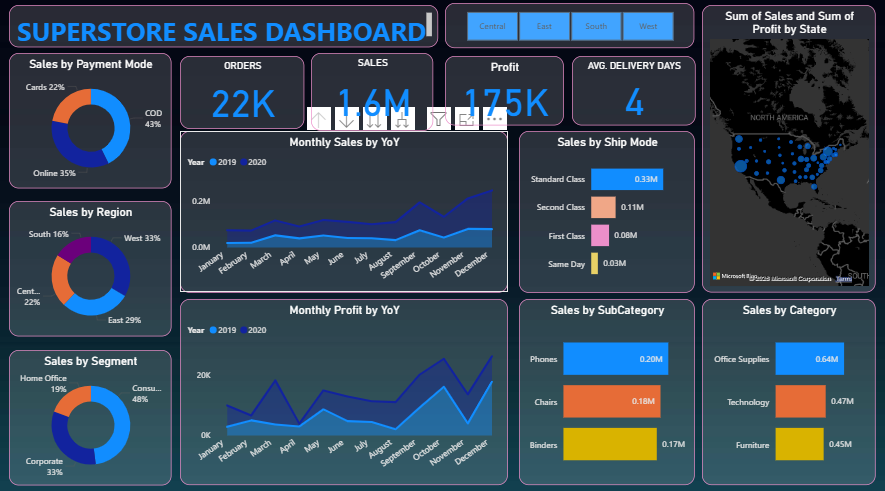

This screenshot's page, from the dashboard's own definition file:
{"tool":"powerbi","page":{"name":"Page 1","canvas":[1280,720],"ordinal":0},"visuals":[{"type":"clusteredBarChart","title":" Sales by Category","fields":{"Y":["Sum(SuperStore_Sales_Dataset.Sales)"],"Category":["SuperStore_Sales_Dataset.Category"]},"box":[1010.2,434.9,250.5,268.4],"z":0},{"type":"clusteredBarChart","title":" Sales by SubCategory","fields":{"Y":["Sum(SuperStore_Sales_Dataset.Sales)"],"Category":["SuperStore_Sales_Dataset.Sub-Category"]},"box":[747.4,434.9,253.2,268.4],"z":1000},{"type":"clusteredBarChart","title":" Sales by Ship Mode","fields":{"Y":["Sum(SuperStore_Sales_Dataset.Sales)"],"Category":["SuperStore_Sales_Dataset.Ship Mode"]},"box":[747.4,192.7,253.2,232.6],"z":2000},{"type":"stackedAreaChart","title":"Monthly Sales by YoY","fields":{"Y":["Sum(SuperStore_Sales_Dataset.Sales)"],"Category":["SuperStore_Sales_Dataset.Order Date.Variation.Date Hierarchy.Month","SuperStore_Sales_Dataset.Order Date.Variation.Date Hierarchy.Day"],"Series":["SuperStore_Sales_Dataset.Order Date.Variation.Date Hierarchy.Year"]},"box":[258.8,192.7,472.1,232.6],"z":3000},{"type":"stackedAreaChart","title":"Monthly Profit by YoY","fields":{"Category":["SuperStore_Sales_Dataset.Order Date.Variation.Date Hierarchy.Month","SuperStore_Sales_Dataset.Order Date.Variation.Date Hierarchy.Day"],"Series":["SuperStore_Sales_Dataset.Order Date.Variation.Date Hierarchy.Year"],"Y":["Sum(SuperStore_Sales_Dataset.Profit)"]},"box":[258.8,434.9,472.1,268.4],"z":4000},{"type":"map","fields":{"Category":["SuperStore_Sales_Dataset.State"],"Size":["Sum(SuperStore_Sales_Dataset.Sales)"]},"box":[1010.2,11,250.5,414.3],"z":5000},{"type":"donutChart","title":" Sales by Payment Mode","fields":{"Y":["Sum(SuperStore_Sales_Dataset.Sales)"],"Category":["SuperStore_Sales_Dataset.Payment Mode"]},"box":[12.4,81.2,234,195.4],"z":6000},{"type":"donutChart","title":" Sales by Region","fields":{"Y":["Sum(SuperStore_Sales_Dataset.Sales)"],"Category":["SuperStore_Sales_Dataset.Region"]},"box":[12.4,293.2,234,195.4],"z":7000},{"type":"donutChart","title":" Sales by Segment","fields":{"Y":["Sum(SuperStore_Sales_Dataset.Sales)"],"Category":["SuperStore_Sales_Dataset.Segment"]},"box":[12.4,507.9,234,195.4],"z":8000},{"type":"textbox","box":[12.4,11,618,60.6],"z":9000},{"type":"card","title":"AVG. DELIVERY DAYS","fields":{"Values":["Avg(SuperStore_Sales_Dataset.Avg.delivery days)"]},"box":[823.1,85.3,177.5,100.5],"z":10000},{"type":"card","title":"Profit","fields":{"Values":["Sum(SuperStore_Sales_Dataset.Profit)"]},"box":[641.4,85.3,170.7,100.5],"z":11000},{"type":"card","title":"SALES","fields":{"Values":["Sum(SuperStore_Sales_Dataset.Sales)"]},"box":[448,80,176,112],"z":12000},{"type":"card","title":"ORDERS","fields":{"Values":["Sum(SuperStore_Sales_Dataset.Quantity)"]},"box":[258.8,85.3,178.9,104.6],"z":13000},{"type":"slicer","fields":{"Values":["SuperStore_Sales_Dataset.Region"]},"box":[641.4,8.3,359.2,64.7],"z":14000}]}

Visuals, with their boxes in screenshot pixels (x1, y1, x2, y2), scaled from the page's 1280x720 canvas onto the 885x491 screenshot:
" Sales by Category" clusteredBarChart: region(698, 297, 872, 480)
" Sales by SubCategory" clusteredBarChart: region(517, 297, 692, 480)
" Sales by Ship Mode" clusteredBarChart: region(517, 131, 692, 290)
"Monthly Sales by YoY" stackedAreaChart: region(179, 131, 505, 290)
"Monthly Profit by YoY" stackedAreaChart: region(179, 297, 505, 480)
map - SuperStore_Sales_Dataset.State x Sum(SuperStore_Sales_Dataset.Sales): region(698, 8, 872, 290)
" Sales by Payment Mode" donutChart: region(9, 55, 170, 189)
" Sales by Region" donutChart: region(9, 200, 170, 333)
" Sales by Segment" donutChart: region(9, 346, 170, 480)
textbox: region(9, 8, 436, 49)
"AVG. DELIVERY DAYS" card: region(569, 58, 692, 127)
"Profit" card: region(443, 58, 561, 127)
"SALES" card: region(310, 55, 431, 131)
"ORDERS" card: region(179, 58, 303, 130)
slicer - SuperStore_Sales_Dataset.Region: region(443, 6, 692, 50)
